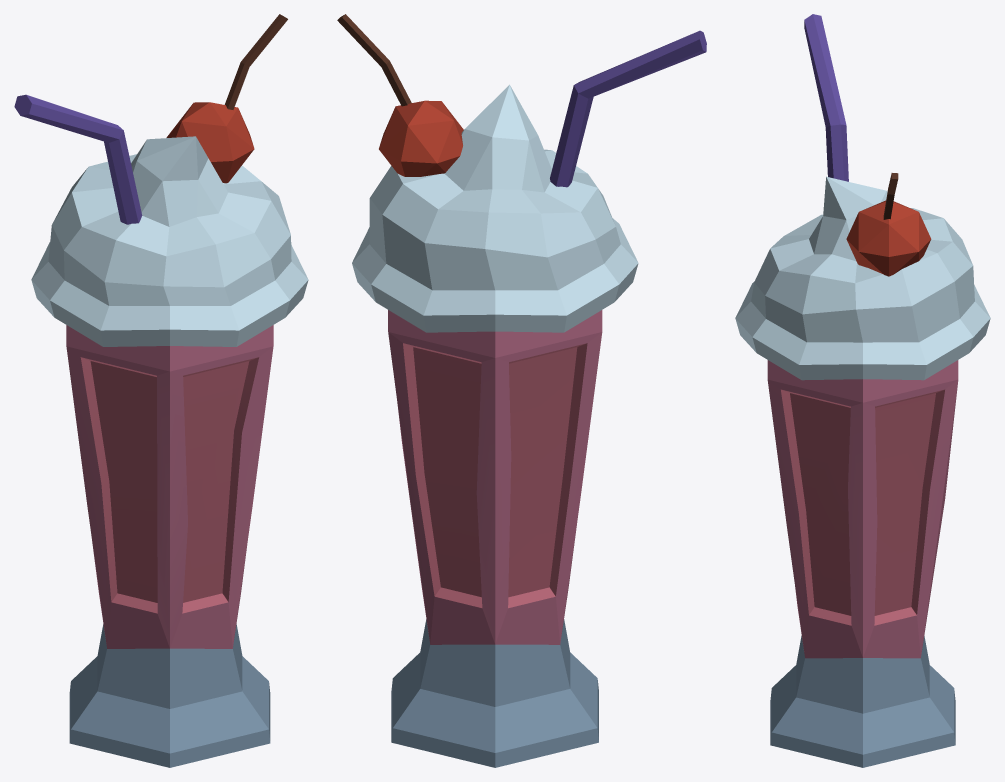
File: SM_Prop_LargeSign_Milkshake_01.fbx
3 renders of one model, left to right at view 1: azimuth 30°, elevation 25°; view 2: azimuth 150°, elevation 25°; view 3: azimuth 270°, elevation 25°, orthographic. The views are drawn at different scales.
Visible parts, largest first — view 1: SM_Prop_LargeSign_Milkshake_01; view 2: SM_Prop_LargeSign_Milkshake_01; view 3: SM_Prop_LargeSign_Milkshake_01.
Part boxes in pixels (left/top/right/bottom): SM_Prop_LargeSign_Milkshake_01: left=14, top=14, right=308, bottom=767; SM_Prop_LargeSign_Milkshake_01: left=337, top=14, right=706, bottom=767; SM_Prop_LargeSign_Milkshake_01: left=735, top=14, right=990, bottom=767.
Bounding box in the file's own units: 224 × 470 × 172.
